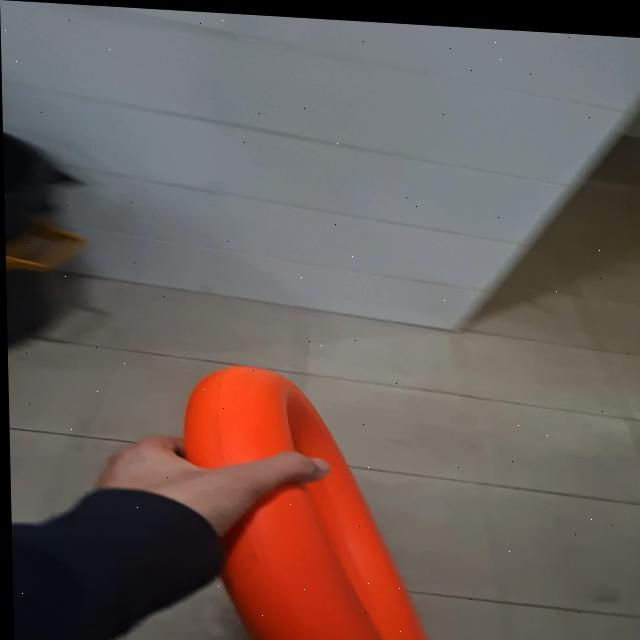note: (178, 359, 433, 640)
